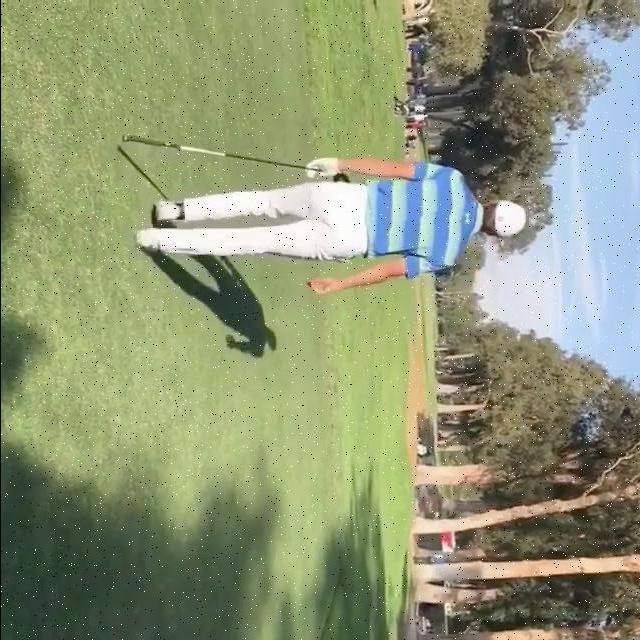golf club-handle: (119, 132, 352, 185)
golf club-head: (333, 173, 351, 184)
